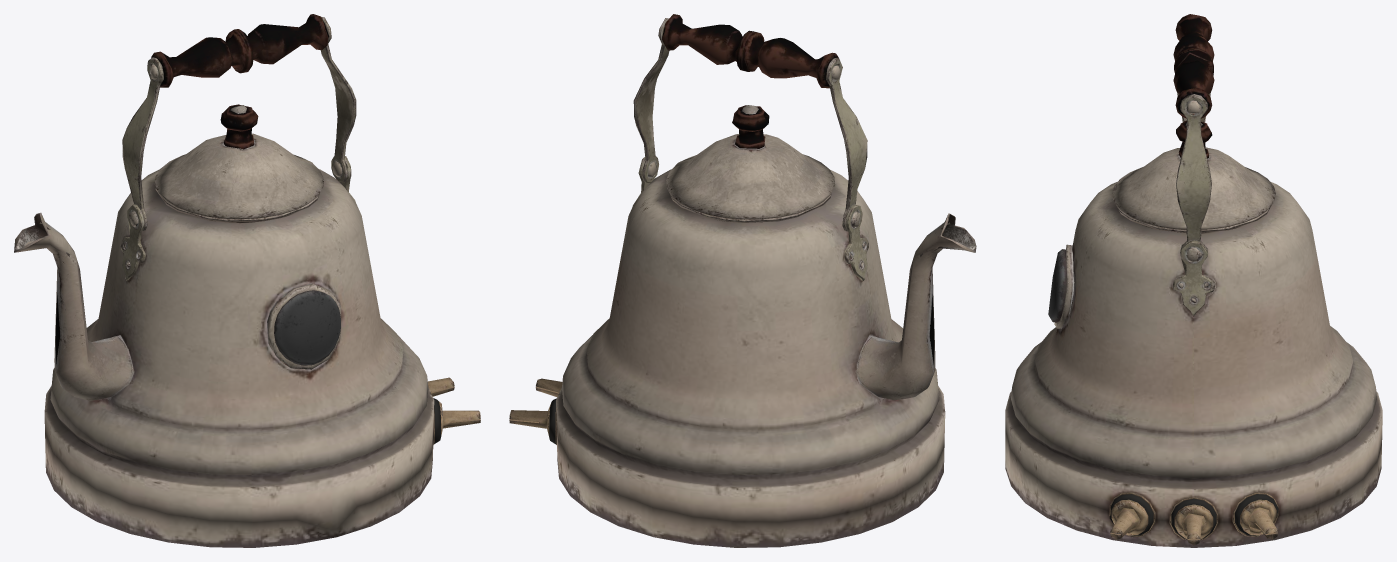
Rendered from vintage_electric_kettle_1k.gltf.
The picture shows the model from 3 angles, left to right: view 1: azimuth 30°, elevation 25°; view 2: azimuth 150°, elevation 25°; view 3: azimuth 270°, elevation 25°; orthographic projection. The views are drawn at different scales.
Parts seen in each view (by area): view 1: vintage_electric_kettle; view 2: vintage_electric_kettle; view 3: vintage_electric_kettle.
Boxes of the visible parts, bbox=[...] form: vintage_electric_kettle: bbox=[14, 14, 480, 547]; vintage_electric_kettle: bbox=[509, 14, 976, 547]; vintage_electric_kettle: bbox=[1005, 14, 1382, 547].
Size of the model in its own units: 0.3208 by 0.3044 by 0.2478.
2 materials, 2 textured.
